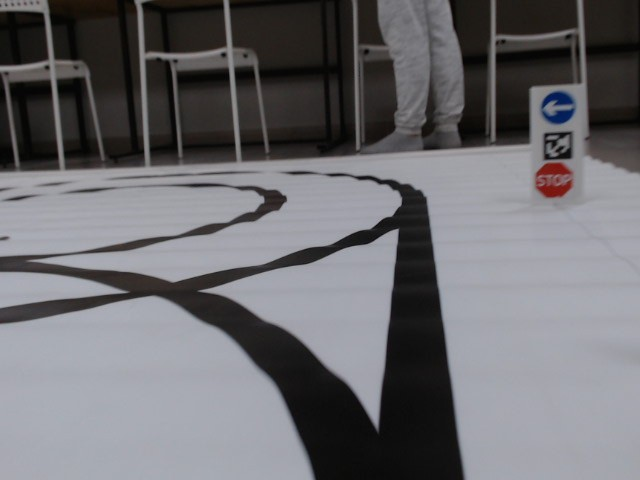Stop: (535, 161, 572, 200)
